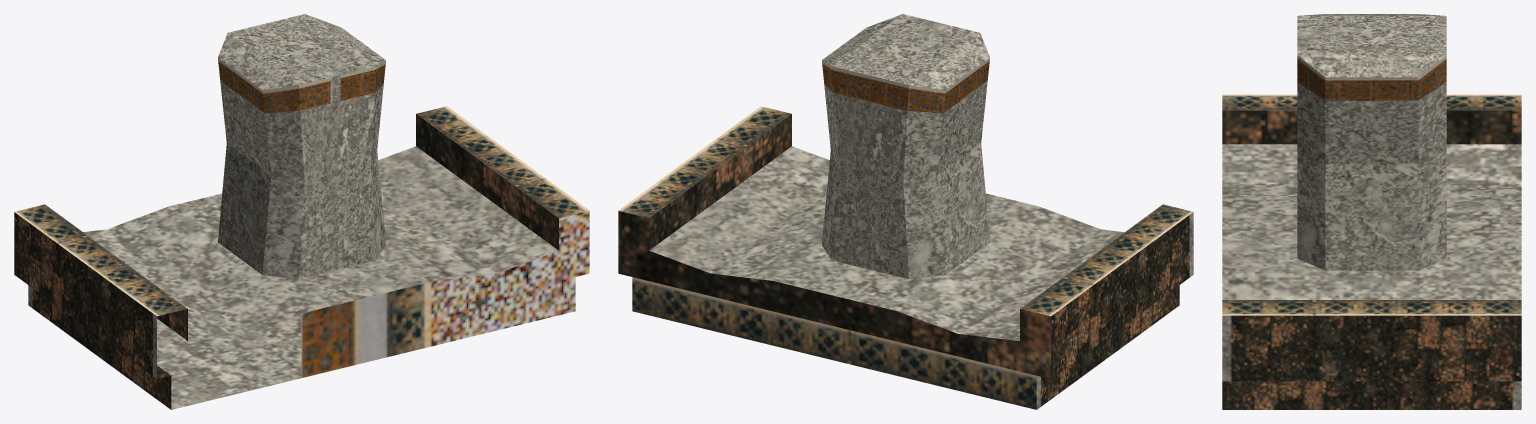
File: Mesh_fontaine.fbx
3 renders of one model, left to right at view 1: azimuth 30°, elevation 25°; view 2: azimuth 150°, elevation 25°; view 3: azimuth 270°, elevation 25°, orthographic. The views are drawn at different scales.
Visible parts, largest first — view 1: Mesh_fontaine; view 2: Mesh_fontaine; view 3: Mesh_fontaine.
Part boxes in pixels (x1,y1,x2,y2): Mesh_fontaine: (14,14,589,409); Mesh_fontaine: (618,14,1193,409); Mesh_fontaine: (1222,14,1521,409).
Size of the model in its own units: 700 by 400 by 400.
